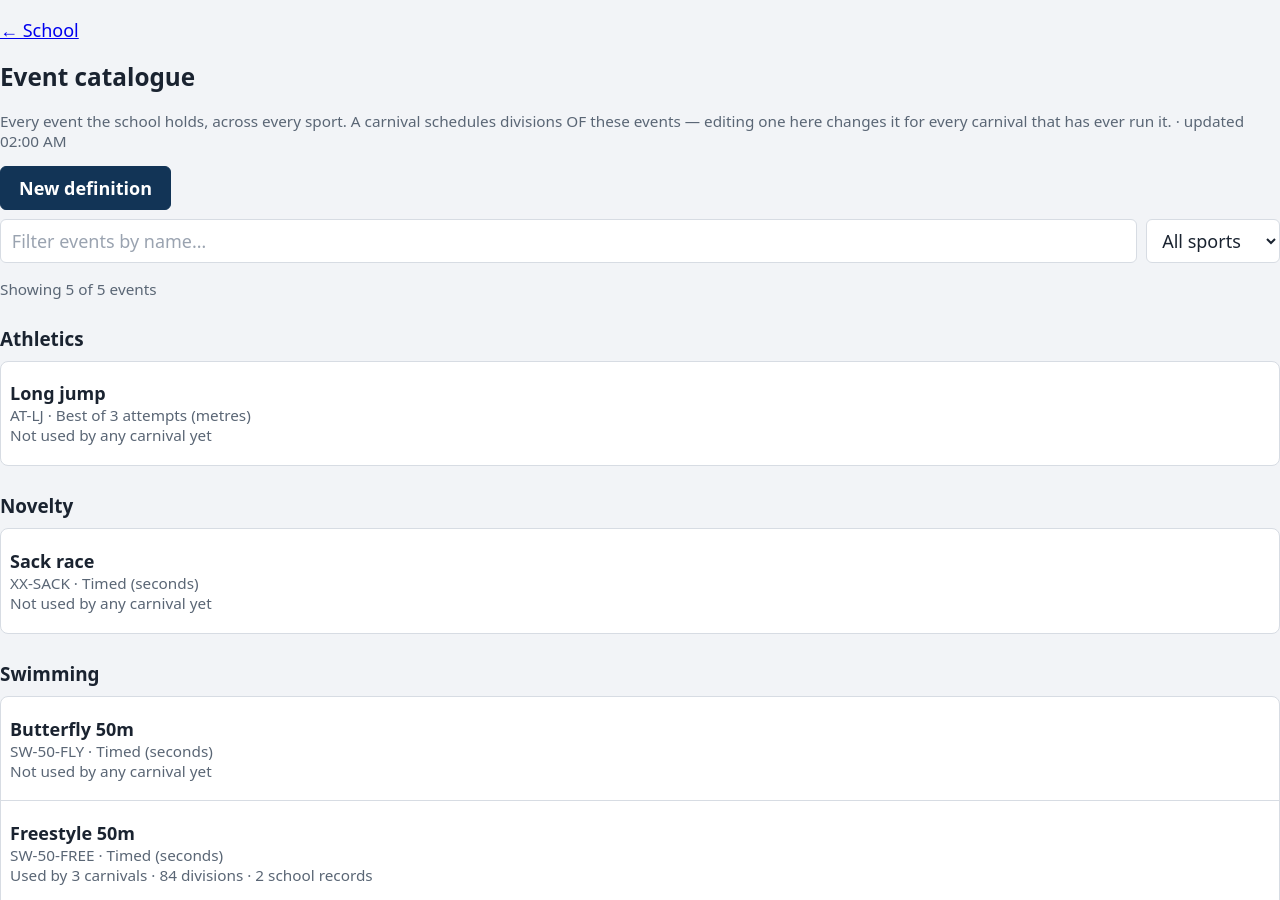
Test: EventCatalogueScreen › says nothing matches rather than showing an empty group
expect the text "Long jump" is shown: met, box top-left (10, 381), bottom-right (106, 405)
Type "kayak" into the field labelled "Filter events by name" at (569, 241), box top-left (0, 219), bottom-right (1137, 263)
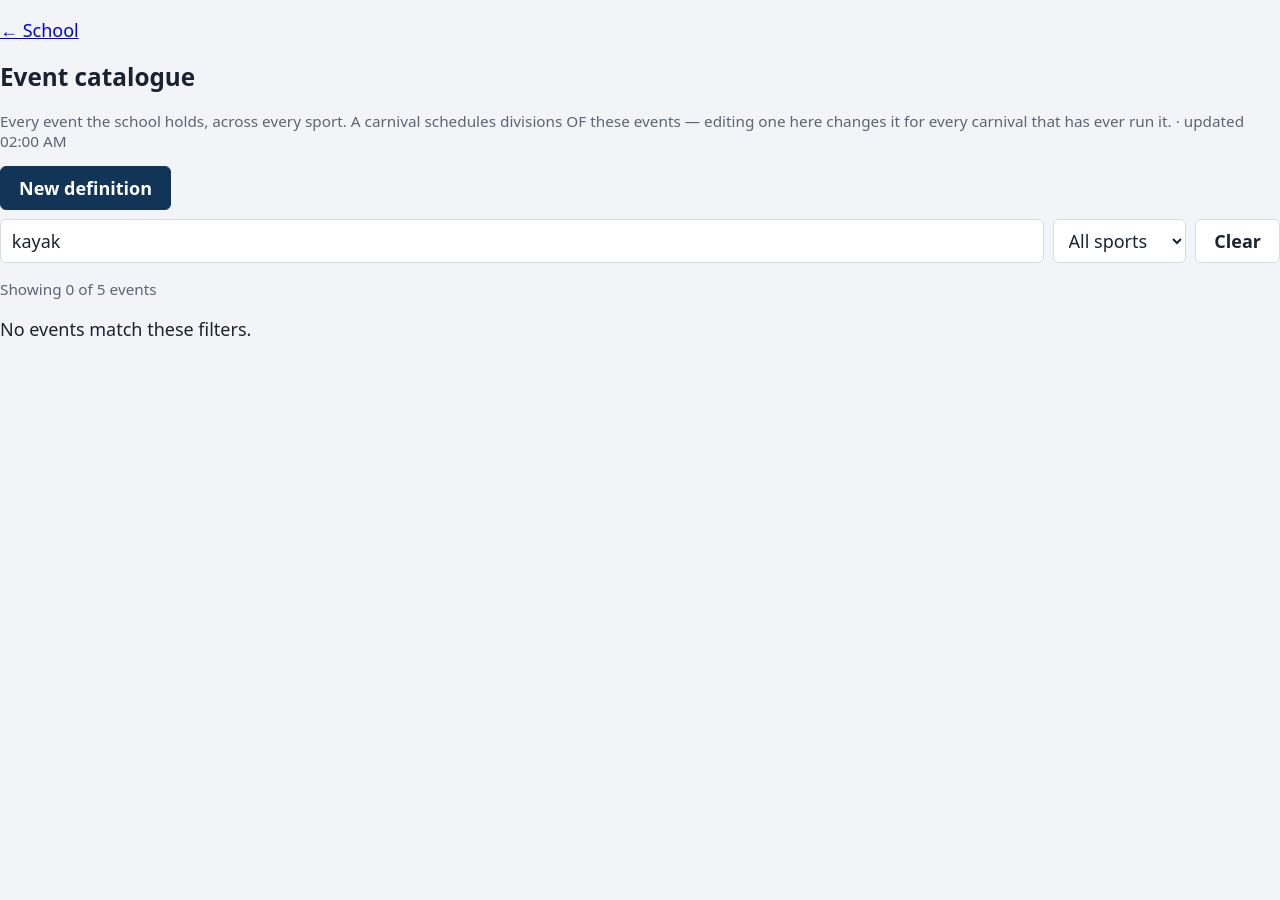
expect the text "No events match these filters." is shown: met, box top-left (0, 317), bottom-right (251, 341)
